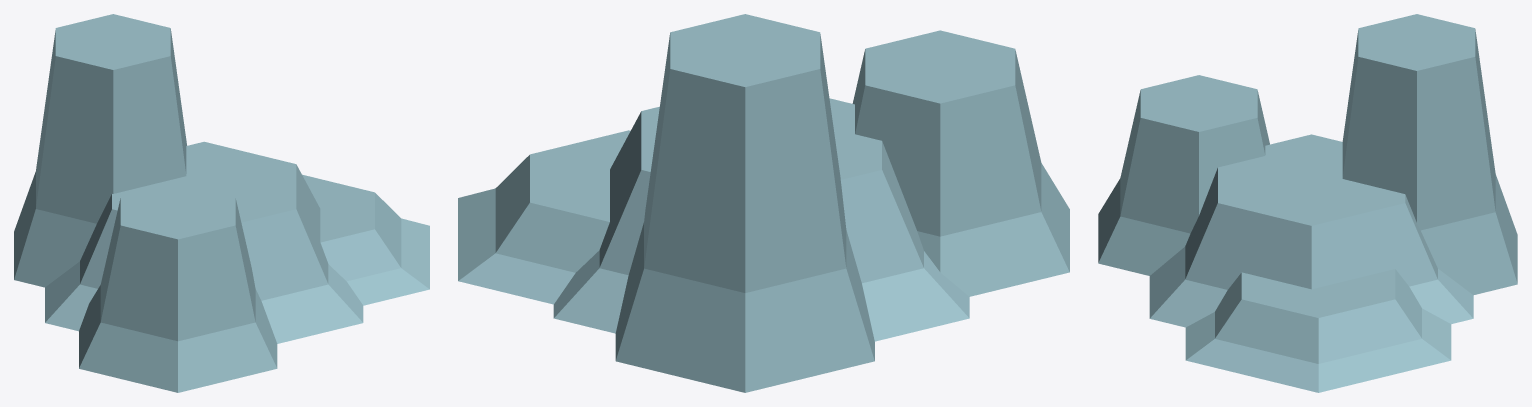
File: rocks.dae
3 views of the same model, side by side, from view 1: azimuth 30°, elevation 25°; view 2: azimuth 150°, elevation 25°; view 3: azimuth 270°, elevation 25° (orthographic). The views are drawn at different scales.
Visible parts, largest first — view 1: rocks; view 2: rocks; view 3: rocks.
Part boxes in pixels (box(x1,y1,x2,y2)): rocks: box(14, 14, 429, 392); rocks: box(458, 14, 1069, 392); rocks: box(1098, 14, 1517, 392).
Size of the model in its own units: 0.9342 by 0.4657 by 0.8148.
